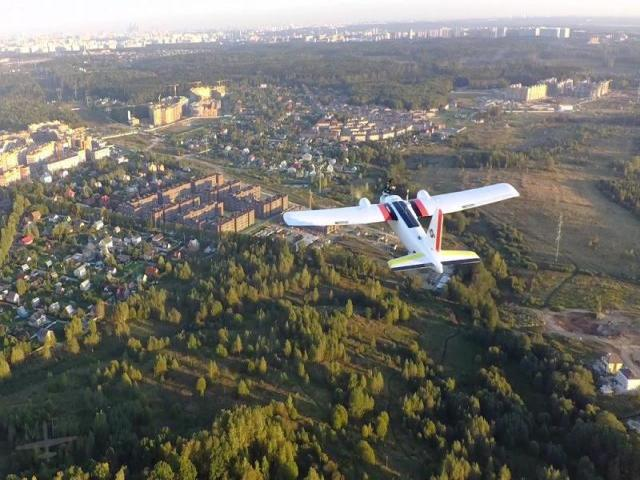hedef: (272, 172, 530, 280)
